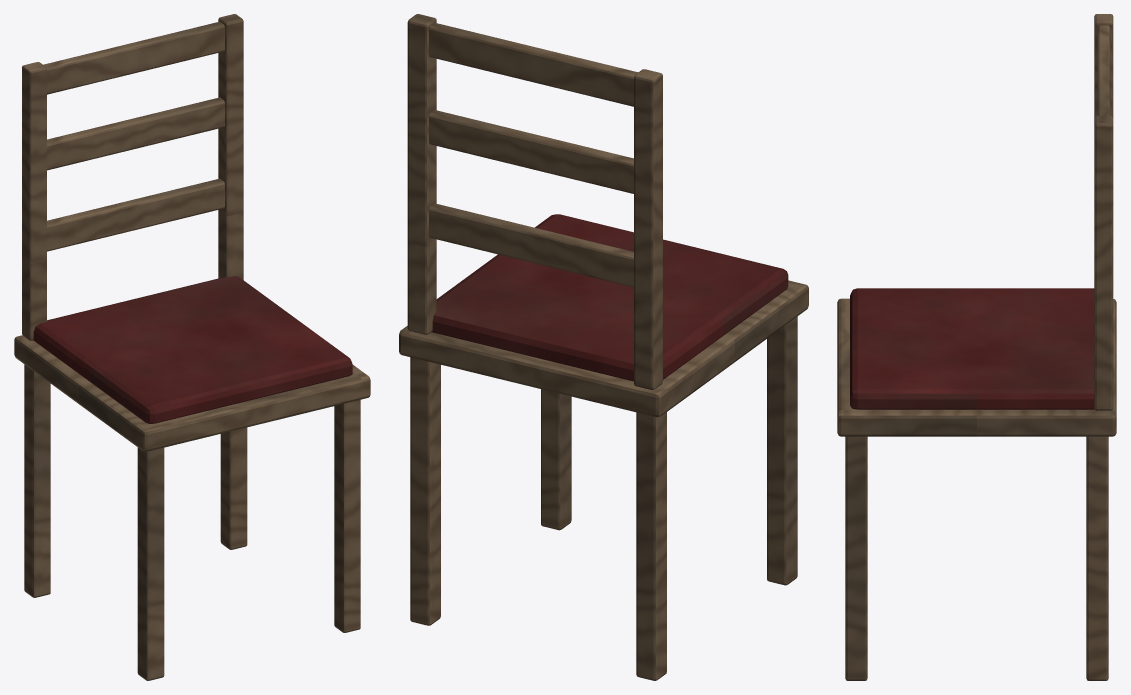
The model's file is L11_dining_chair_v2.glb.
3 renders of one model, left to right at view 1: azimuth 30°, elevation 25°; view 2: azimuth 150°, elevation 25°; view 3: azimuth 270°, elevation 25°, orthographic. The views are drawn at different scales.
Parts seen in each view (by area): view 1: L11_dining_chair_v2; view 2: L11_dining_chair_v2; view 3: L11_dining_chair_v2.
Boxes of the visible parts, x1=… form: L11_dining_chair_v2: x1=14, y1=14, x2=370, y2=680; L11_dining_chair_v2: x1=399, y1=14, x2=808, y2=680; L11_dining_chair_v2: x1=837, y1=14, x2=1116, y2=680.
Size of the model in its own units: 0.4082 by 0.9 by 0.4082.
Materials: 2 (2 with a texture image).
